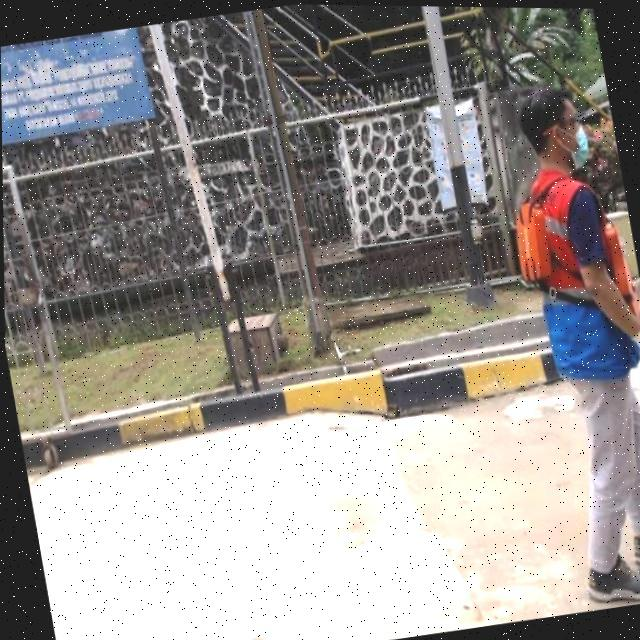goggles_on: (526, 106, 588, 141)
